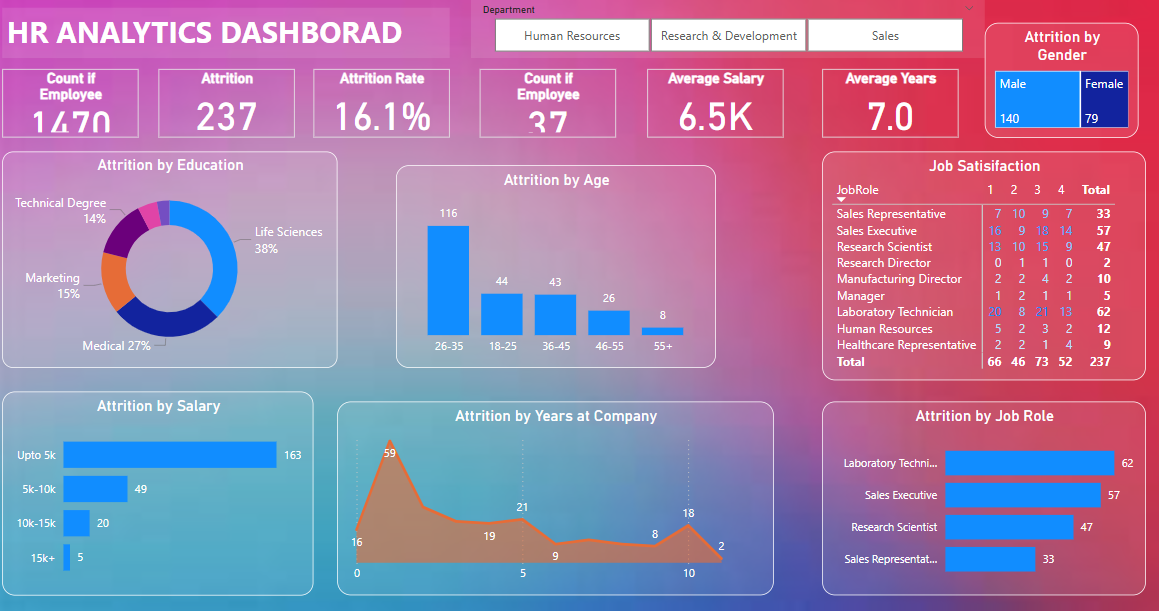

The page's visual inventory and layout, read from the dashboard file:
{"tool":"powerbi","page":{"name":"Page 1","canvas":[1280,720],"ordinal":0},"visuals":[{"type":"card","title":"Count if Employee","fields":{"Values":["CountNonNull(HR_Analytics.EmpID)"]},"box":[6.9,120.8,149.6,75.5],"z":0},{"type":"card","title":"Attrition","fields":{"Values":["Sum(HR_Analytics.AttritionCount)"]},"box":[178.4,120.8,149.6,75.5],"z":1000},{"type":"card","title":"Attrition Rate ","fields":{"Values":["HR_Analytics.AttritionRate"]},"box":[348.5,120.8,149.6,75.5],"z":2000},{"type":"card","title":"Count if Employee","fields":{"Values":["Avg(HR_Analytics.Age)"]},"box":[531,120.8,149.6,75.5],"z":3000},{"type":"card","title":"Average Salary","fields":{"Values":["Avg(HR_Analytics.MonthlyIncome)"]},"box":[714.9,120.8,149.6,75.5],"z":4000},{"type":"card","title":"Average Years","fields":{"Values":["Avg(HR_Analytics.YearsAtCompany)"]},"box":[907,120.8,149.6,75.5],"z":5000},{"type":"donutChart","title":"Attrition by Education","fields":{"Category":["HR_Analytics.EducationField"],"Y":["Sum(HR_Analytics.AttritionCount)"]},"box":[6.9,211.3,367.8,237.4],"z":6000},{"type":"columnChart","title":"Attrition by Age","fields":{"Y":["Sum(HR_Analytics.AttritionCount)"],"Category":["HR_Analytics.AgeGroup"]},"box":[439.1,226.4,351.3,222.3],"z":7000},{"type":"pivotTable","title":"Job Satisifaction","fields":{"Rows":["HR_Analytics.JobRole"],"Columns":["HR_Analytics.JobSatisfaction"],"Values":["Sum(HR_Analytics.AttritionCount)"]},"box":[907,211.3,355.4,251.1],"z":8000},{"type":"barChart","title":"Attrition by Salary","fields":{"Category":["HR_Analytics.SalarySlab"],"Y":["Sum(HR_Analytics.AttritionCount)"]},"box":[6.9,474.8,341.7,223.7],"z":9000},{"type":"barChart","title":"Attrition by Job Role","fields":{"Category":["HR_Analytics.JobRole"],"Y":["Sum(HR_Analytics.AttritionCount)"]},"box":[907,485.8,355.4,212.7],"z":10000},{"type":"areaChart","title":"Attrition by Years at Company ","fields":{"Category":["HR_Analytics.YearsAtCompany"],"Y":["Sum(HR_Analytics.AttritionCount)"]},"box":[374.6,485.8,478.9,212.7],"z":11000},{"type":"treemap","title":"Attrition by Gender","fields":{"Group":["HR_Analytics.Gender"],"Values":["Sum(HR_Analytics.AttritionCount)"]},"box":[1085.4,70,168.8,126.2],"z":12000},{"type":"slicer","fields":{"Values":["HR_Analytics.Department"]},"box":[521.4,43.9,564,64.5],"z":13000},{"type":"textbox","box":[6.9,53.5,491.3,54.9],"z":14000}]}

Visuals, with their boxes on the page's 1280x720 design canvas (x1, y1, x2, y2). These are canvas units, not pixel positions in the 1159x611 screenshot, which may show the page scaled, cropped or inside an application window:
"Count if Employee" card: bbox=(7, 121, 156, 196)
"Attrition" card: bbox=(178, 121, 328, 196)
"Attrition Rate " card: bbox=(348, 121, 498, 196)
"Count if Employee" card: bbox=(531, 121, 681, 196)
"Average Salary" card: bbox=(715, 121, 864, 196)
"Average Years" card: bbox=(907, 121, 1057, 196)
"Attrition by Education" donutChart: bbox=(7, 211, 375, 449)
"Attrition by Age" columnChart: bbox=(439, 226, 790, 449)
"Job Satisifaction" pivotTable: bbox=(907, 211, 1262, 462)
"Attrition by Salary" barChart: bbox=(7, 475, 349, 698)
"Attrition by Job Role" barChart: bbox=(907, 486, 1262, 698)
"Attrition by Years at Company " areaChart: bbox=(375, 486, 854, 698)
"Attrition by Gender" treemap: bbox=(1085, 70, 1254, 196)
slicer - HR_Analytics.Department: bbox=(521, 44, 1085, 108)
textbox: bbox=(7, 54, 498, 108)
